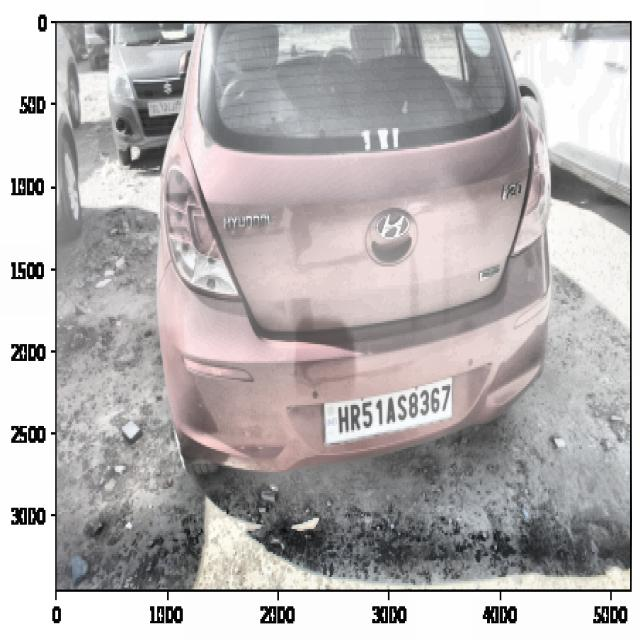license_plate: (331, 380, 454, 434)
